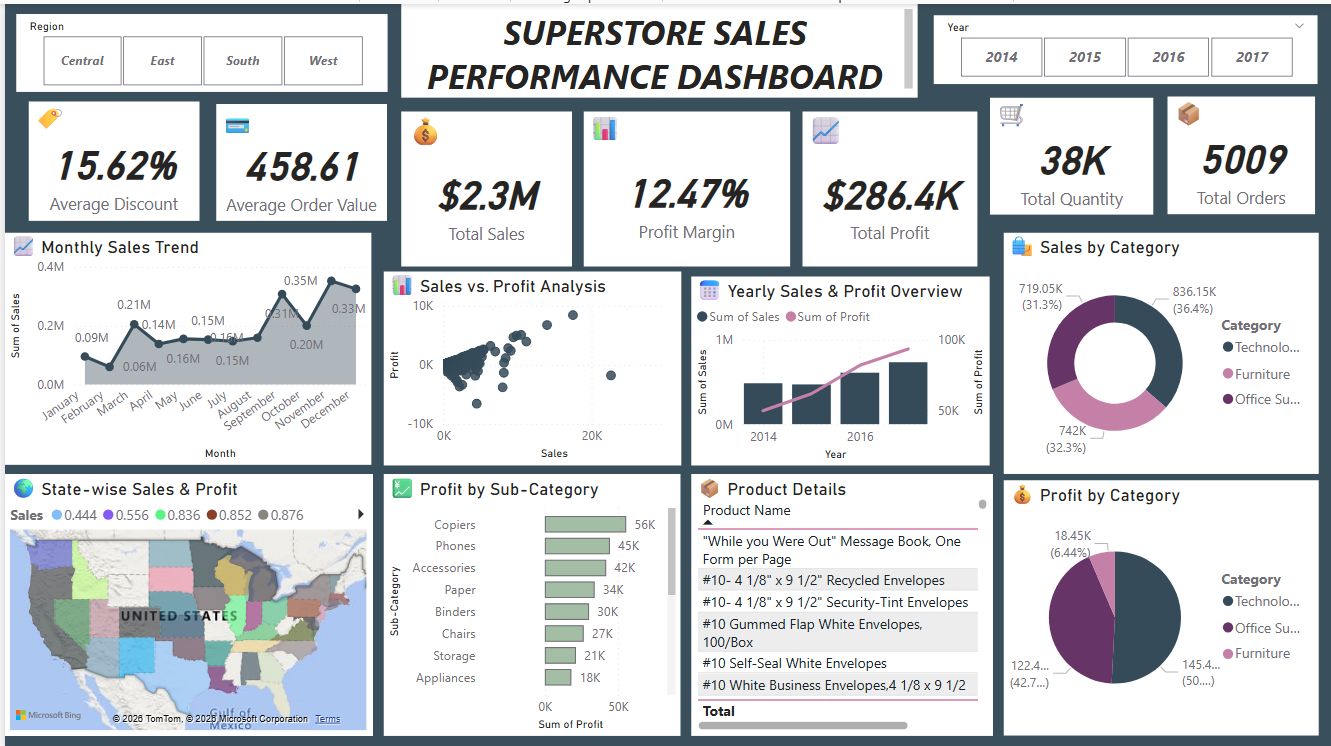

This screenshot's page, from the dashboard's own definition file:
{"tool":"powerbi","page":{"name":"Page 1","canvas":[1280,720],"ordinal":0},"visuals":[{"type":"textbox","box":[382.4,0,498.3,90.5],"z":0},{"type":"card","title":"🏷️","fields":{"Values":["KPI.Average Discount"]},"box":[22.8,93.9,164.7,115.3],"z":1000},{"type":"card","title":"💳","fields":{"Values":["KPI.Average Order Value"]},"box":[204.5,96.1,164.7,112.5],"z":2000},{"type":"card","title":"📊","fields":{"Values":["KPI.Profit Margin"]},"box":[558.5,104.3,199,149.6],"z":3000},{"type":"card","title":"📦","fields":{"Values":["KPI.Total Orders"]},"box":[1122.5,89.2,142.7,113.9],"z":4000},{"type":"card","title":"📈","fields":{"Values":["KPI.Total Profit"]},"box":[769.7,103.8,168.9,149.6],"z":5000},{"type":"card","title":"🛒","fields":{"Values":["KPI.Total Quantity"]},"box":[950.9,90.6,157.8,112.5],"z":6000},{"type":"card","title":"💰","fields":{"Values":["KPI.Total Sales"]},"box":[382.8,104.3,164.7,149.6],"z":7000},{"type":"slicer","fields":{"Values":["orders.Region"]},"box":[11,9.9,358.1,75.5],"z":8000},{"type":"slicer","fields":{"Values":["orders.Order Date.Variation.Date Hierarchy.Year"]},"box":[896.1,10.7,370.5,66.1],"z":9000},{"type":"lineChart","title":"📈 Monthly Sales Trend","fields":{"Category":["orders.Order Date.Variation.Date Hierarchy.Month"],"Y":["Sum(orders.Sales)"]},"box":[0,220.8,353.5,224.4],"z":10000},{"type":"donutChart","title":"🛍️ Sales by Category","fields":{"Category":["orders.Category"],"Y":["Sum(orders.Sales)"]},"box":[963.9,220.8,304,232.8],"z":11000},{"type":"filledMap","title":"🌍 State-wise Sales & Profit","fields":{"Category":["orders.State"],"Series":["orders.Sales"]},"box":[0,454.2,354,252.5],"z":12000},{"type":"clusteredBarChart","title":"💹 Profit by Sub-Category","fields":{"Category":["orders.Sub-Category"],"Y":["Sum(orders.Profit)"]},"box":[365,454.2,286.8,252.5],"z":13000},{"type":"pieChart","title":"💰 Profit by Category","fields":{"Category":["orders.Category"],"Y":["Sum(orders.Profit)"]},"box":[963.9,459.7,304,246.1],"z":14000},{"type":"lineClusteredColumnComboChart","title":"📅 Yearly Sales & Profit Overview","fields":{"Category":["orders.Order Date.Variation.Date Hierarchy.Year","orders.Order Date.Variation.Date Hierarchy.Month"],"Y":["Sum(orders.Sales)"],"Y2":["Sum(orders.Profit)"]},"box":[662.8,263.5,288.2,182.5],"z":14001},{"type":"tableEx","title":"📦 Product Details","fields":{"Values":["orders.Product Name","Sum(orders.Sales)"]},"box":[662.8,454.2,290.9,252.5],"z":14002},{"type":"scatterChart","title":"📊 Sales vs. Profit Analysis","fields":{"X":["orders.Sales"],"Y":["orders.Profit"]},"box":[365.6,258.2,287.1,187],"z":14003}]}

Visuals, with their boxes in screenshot pixels (x1, y1, x2, y2), scaled from the page's 1280x720 canvas onto the 1331x746 screenshot:
textbox: (left=398, top=0, right=916, bottom=94)
"🏷️" card: (left=24, top=97, right=195, bottom=217)
"💳" card: (left=213, top=100, right=384, bottom=216)
"📊" card: (left=581, top=108, right=788, bottom=263)
"📦" card: (left=1167, top=92, right=1316, bottom=210)
"📈" card: (left=800, top=108, right=976, bottom=263)
"🛒" card: (left=989, top=94, right=1153, bottom=210)
"💰" card: (left=398, top=108, right=569, bottom=263)
slicer - orders.Region: (left=11, top=10, right=384, bottom=88)
slicer - orders.Order Date.Variation.Date Hierarchy.Year: (left=932, top=11, right=1317, bottom=80)
"📈 Monthly Sales Trend" lineChart: (left=0, top=229, right=368, bottom=461)
"🛍️ Sales by Category" donutChart: (left=1002, top=229, right=1318, bottom=470)
"🌍 State-wise Sales & Profit" filledMap: (left=0, top=471, right=368, bottom=732)
"💹 Profit by Sub-Category" clusteredBarChart: (left=380, top=471, right=678, bottom=732)
"💰 Profit by Category" pieChart: (left=1002, top=476, right=1318, bottom=731)
"📅 Yearly Sales & Profit Overview" lineClusteredColumnComboChart: (left=689, top=273, right=989, bottom=462)
"📦 Product Details" tableEx: (left=689, top=471, right=992, bottom=732)
"📊 Sales vs. Profit Analysis" scatterChart: (left=380, top=268, right=679, bottom=461)
